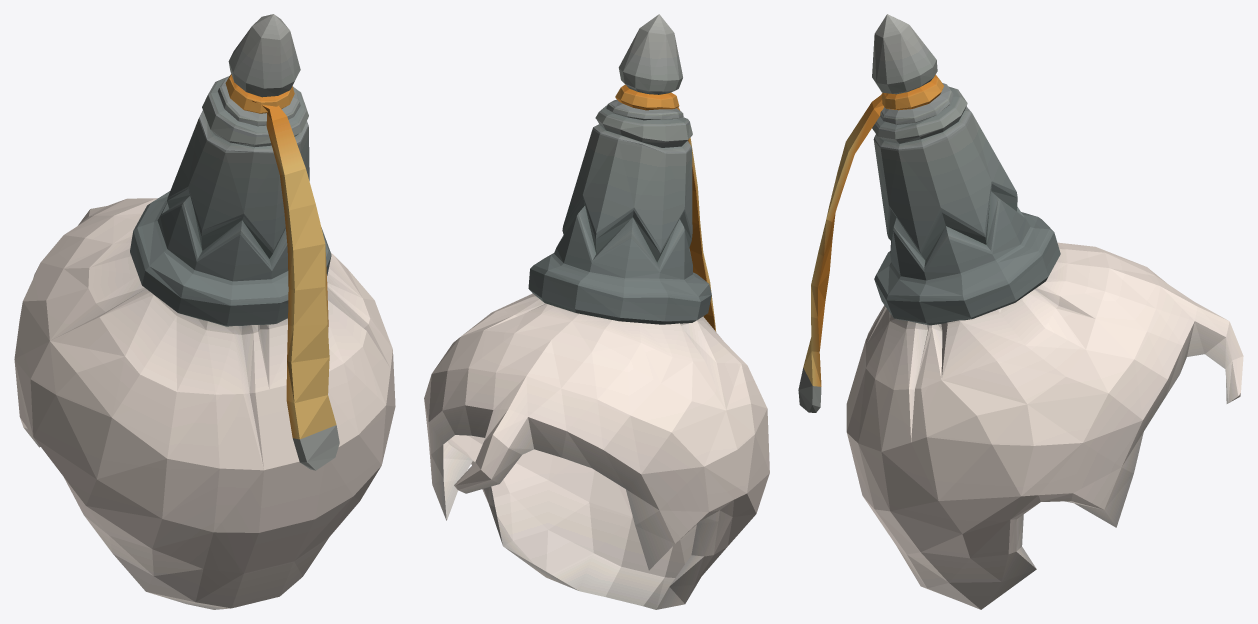
File: CharSkyKid_Hair_AP02Stupa_01.glb
The picture shows the model from 3 angles, left to right: view 1: azimuth 30°, elevation 25°; view 2: azimuth 150°, elevation 25°; view 3: azimuth 270°, elevation 25°; orthographic projection. The views are drawn at different scales.
Parts seen in each view (by area): view 1: CharSkyKid_Hair_AP02Stupa_01; view 2: CharSkyKid_Hair_AP02Stupa_01; view 3: CharSkyKid_Hair_AP02Stupa_01.
Part boxes in pixels (box(x1,y1,x2,y2)): CharSkyKid_Hair_AP02Stupa_01: box(14, 14, 395, 609); CharSkyKid_Hair_AP02Stupa_01: box(424, 14, 769, 609); CharSkyKid_Hair_AP02Stupa_01: box(798, 14, 1243, 609).
Bounding box in the file's own units: 2.72 × 4.78 × 3.34.
Materials: 1 (1 with a texture image).
